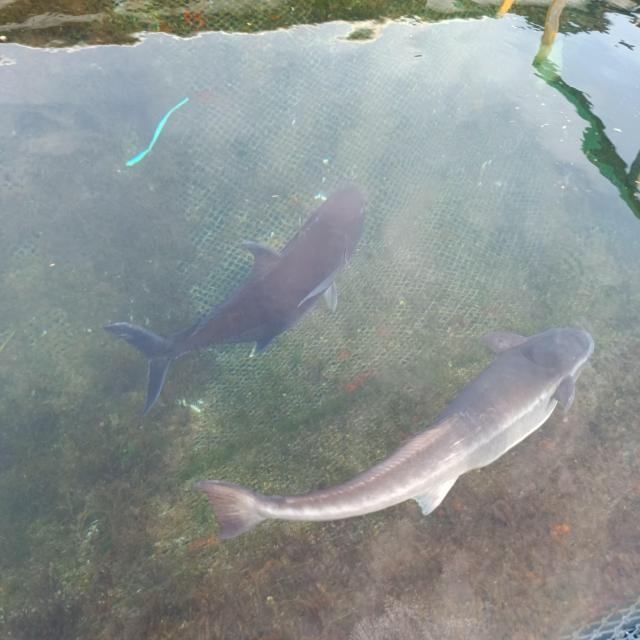ikan: (95, 173, 386, 418), (406, 298, 604, 483)
